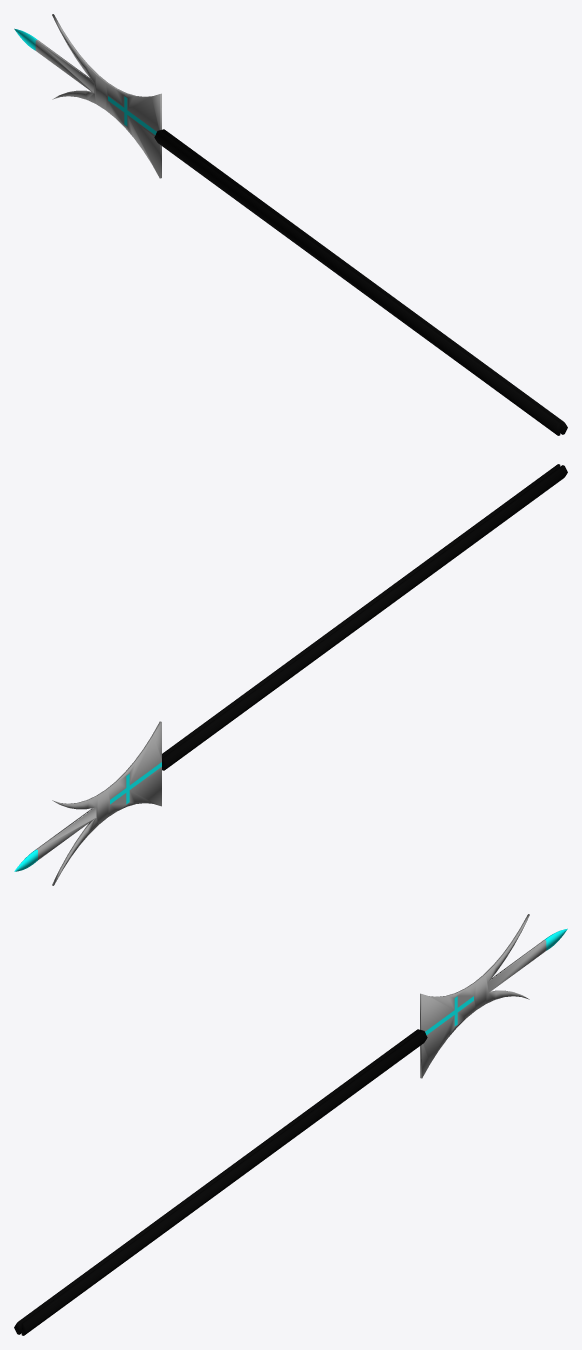
The model's file is spear3.fbx.
The picture shows the model from 3 angles, top to bottom: view 1: azimuth 30°, elevation 25°; view 2: azimuth 150°, elevation 25°; view 3: azimuth 330°, elevation 25°; orthographic projection.
Visible parts, largest first — view 1: SketchUp.003, SketchUp; view 2: SketchUp.003, SketchUp; view 3: SketchUp.003, SketchUp.
Part boxes in pixels (x1,y1,x2,y2): SketchUp.003: (154,129,567,435); SketchUp: (35,14,161,178); SketchUp.003: (162,464,567,770); SketchUp: (36,721,161,885); SketchUp.003: (14,1029,427,1335); SketchUp: (420,914,546,1078).
Size of the model in its own units: 4.76 by 29.18 by 340.
